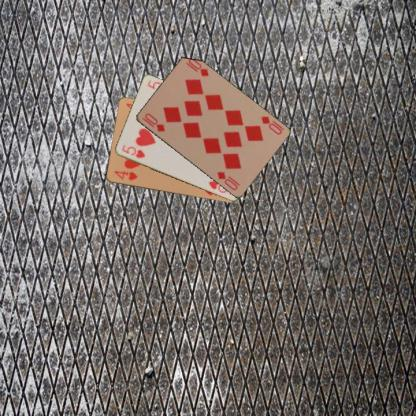10d: (258, 112, 285, 136), (139, 110, 166, 133)
4h: (112, 168, 138, 182)
5h: (119, 142, 146, 160)
